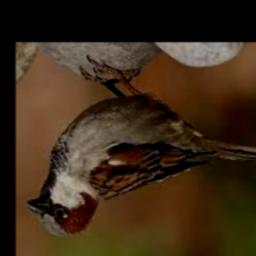Sparrow: (27, 57, 256, 237)
